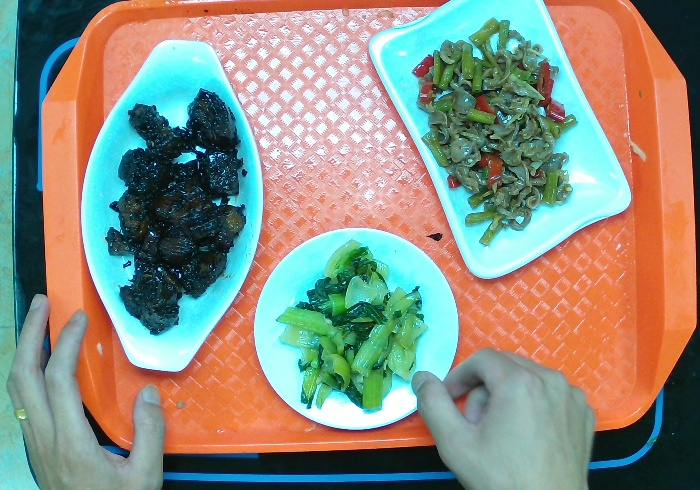RJxy-Si_Fang_Ao_Bian_Wan: (365, 1, 641, 282)
RJxy-Xiao_Yuan_Die: (248, 226, 467, 432)
RJxy-Yu_Pan: (75, 34, 272, 379)
